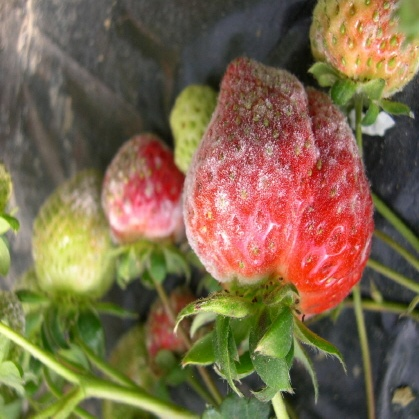Powdery_Fruit: (175, 93, 375, 364), (309, 105, 418, 418), (144, 35, 222, 388), (33, 119, 119, 303), (99, 174, 185, 287), (0, 39, 27, 357)
